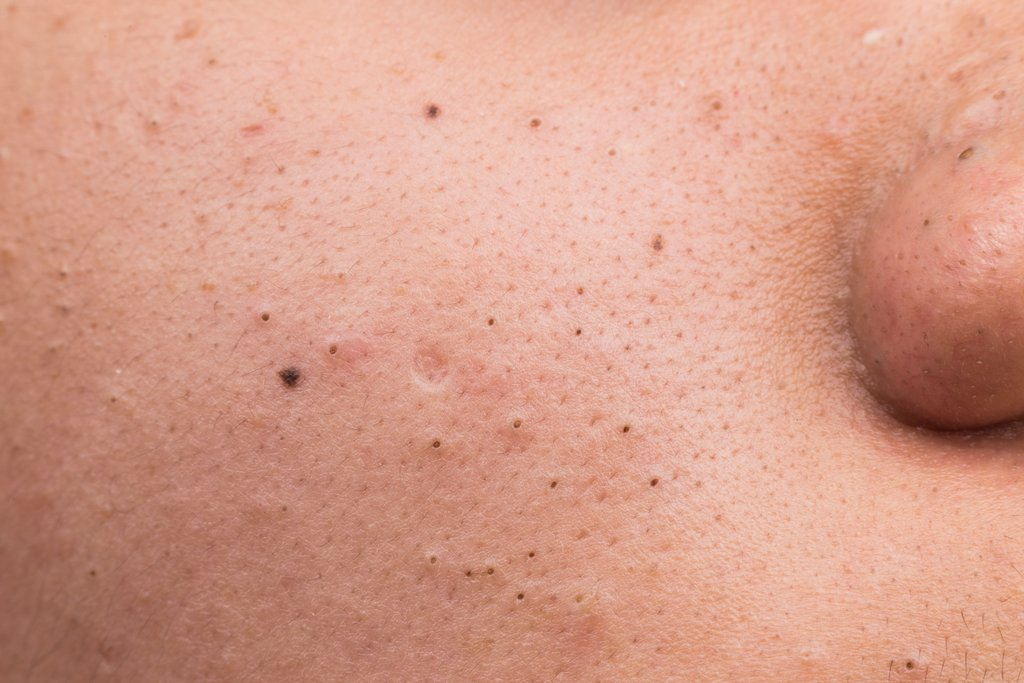jerawat: (422, 97, 454, 129), (239, 118, 270, 137), (954, 138, 977, 163), (646, 229, 666, 256), (253, 305, 276, 328), (476, 560, 498, 583), (424, 438, 449, 458), (915, 211, 935, 235), (503, 416, 524, 437), (571, 284, 593, 304), (706, 95, 727, 114), (325, 342, 344, 362), (901, 655, 918, 677), (423, 553, 440, 572), (528, 114, 542, 136), (646, 472, 663, 490), (543, 477, 560, 494), (480, 315, 497, 331), (615, 422, 632, 438), (524, 545, 538, 564), (603, 146, 620, 161), (458, 566, 473, 583), (54, 302, 72, 316), (56, 264, 71, 280), (569, 325, 584, 340), (512, 590, 526, 605), (954, 255, 969, 268)
